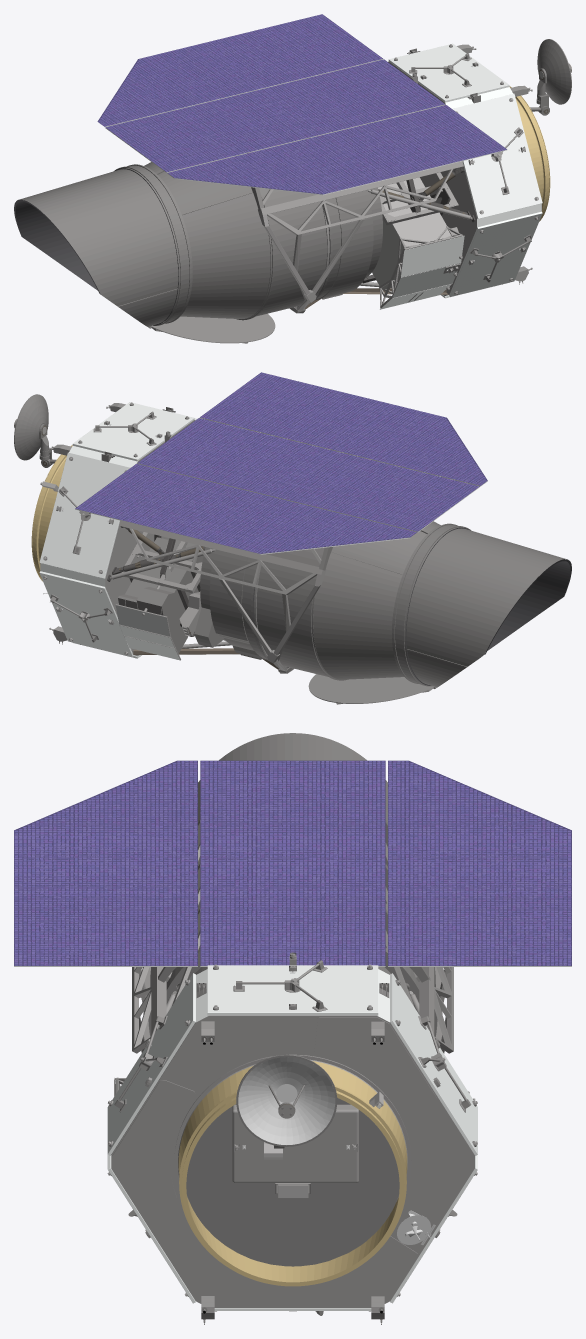
File: roman.glb
3 renders of one model, top to bottom at view 1: azimuth 30°, elevation 25°; view 2: azimuth 150°, elevation 25°; view 3: azimuth 270°, elevation 25°, orthographic. The views are drawn at different scales.
Visible parts, largest first — view 1: afta2015-maintube; view 2: afta2015-maintube; view 3: afta2015-maintube.
Boxes of the visible parts, bbox=[...] form: afta2015-maintube: bbox=[14, 14, 571, 343]; afta2015-maintube: bbox=[14, 372, 571, 704]; afta2015-maintube: bbox=[14, 733, 571, 1324].
Bounding box in the file's own units: 344 × 131 × 207.
3 materials, 3 textured.
